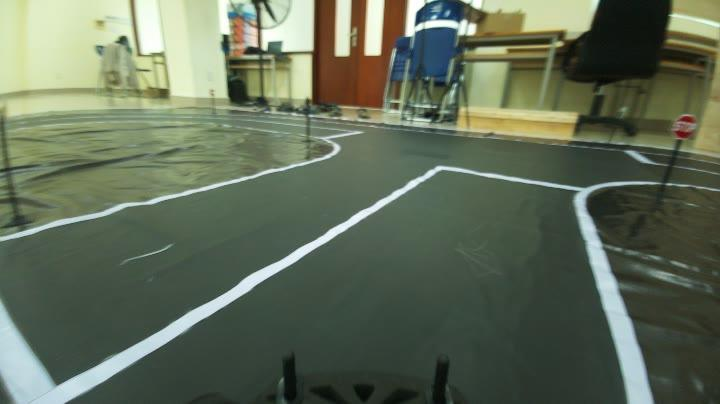stop: (669, 106, 702, 141)
